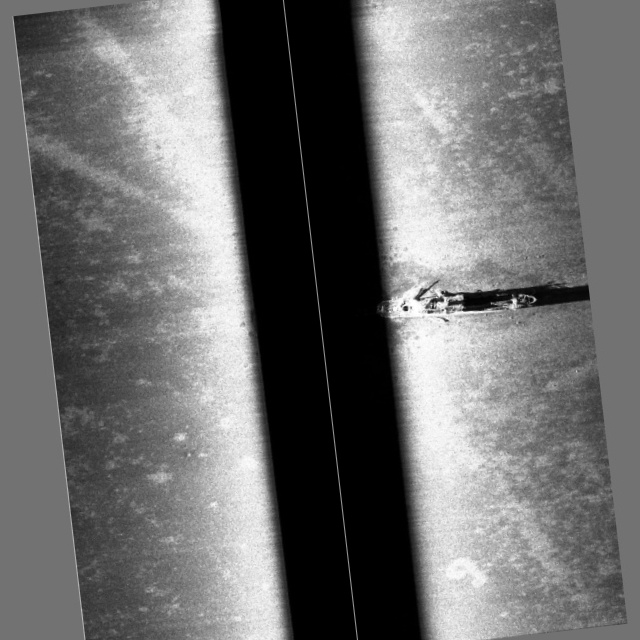Shipwreck: (373, 268, 539, 331)
